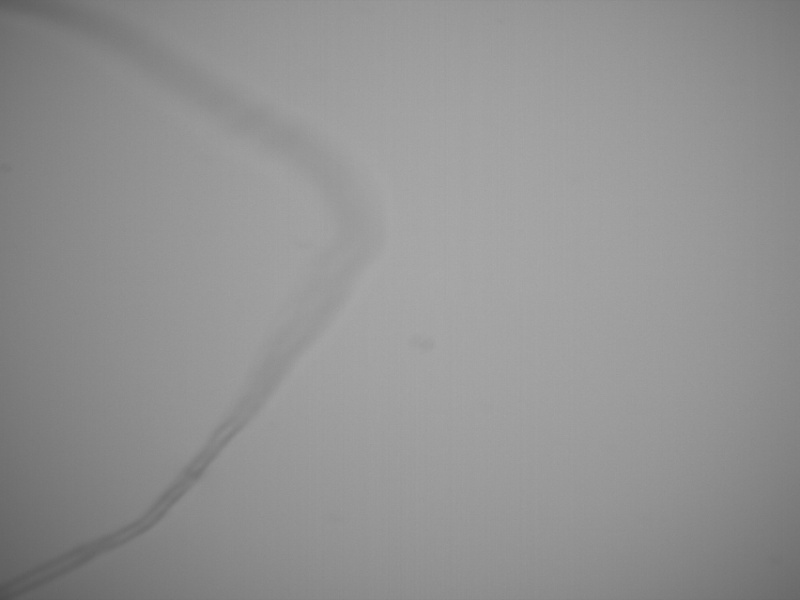fiber: (1, 2, 384, 600)
